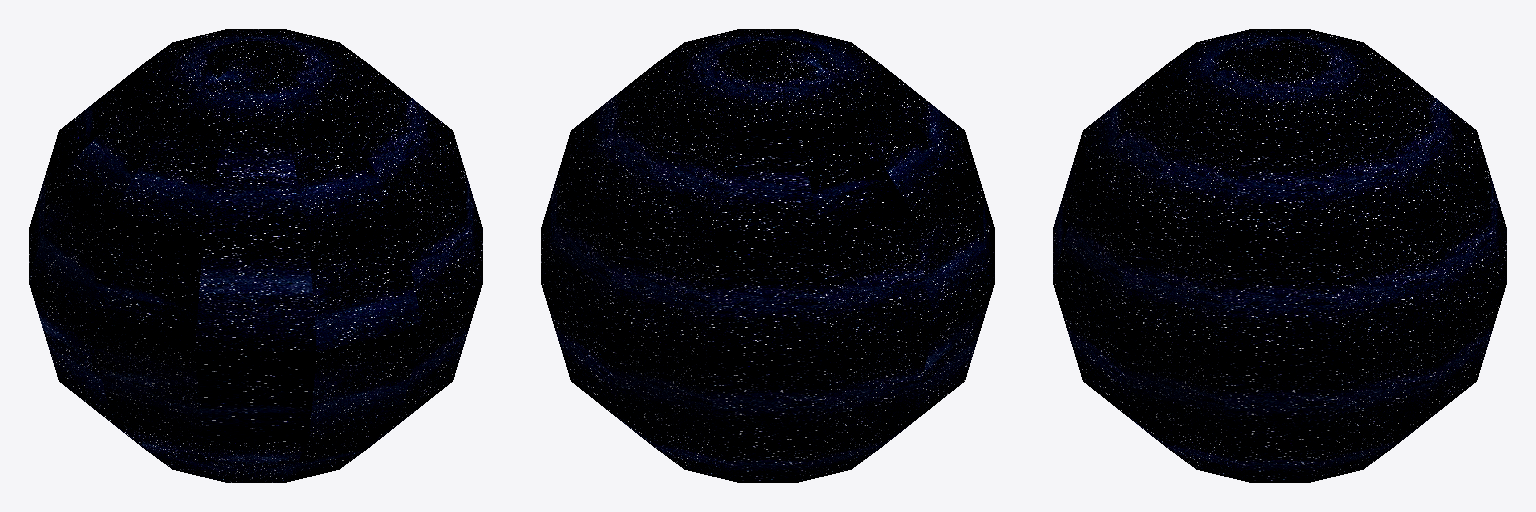
3 views of the same model, side by side, from view 1: azimuth 30°, elevation 25°; view 2: azimuth 150°, elevation 25°; view 3: azimuth 270°, elevation 25° (orthographic).
Visible parts, largest first — view 1: sphere; view 2: sphere; view 3: sphere.
Boxes of the visible parts, <box> form: sphere: <box>29,29,482,482</box>; sphere: <box>541,29,994,482</box>; sphere: <box>1053,29,1506,482</box>.
Bounding box in the file's own units: 31.25 × 31.25 × 31.25.
1 materials, 1 textured.